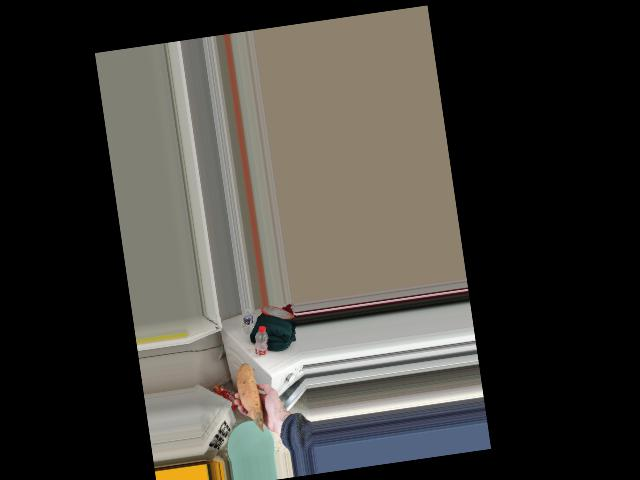sweet_potato: (232, 363, 264, 424)
